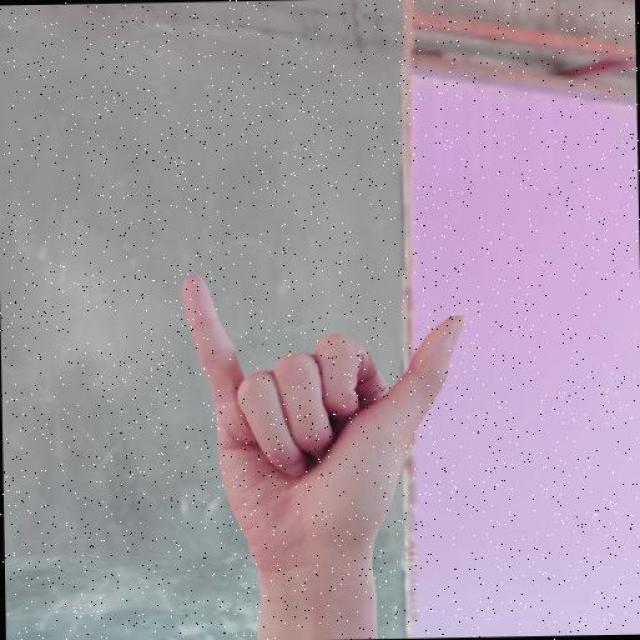Y: (177, 258, 472, 598)
